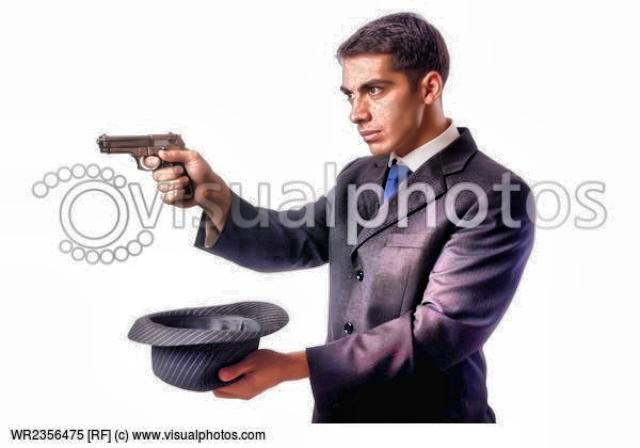pistol: (93, 127, 195, 201)
